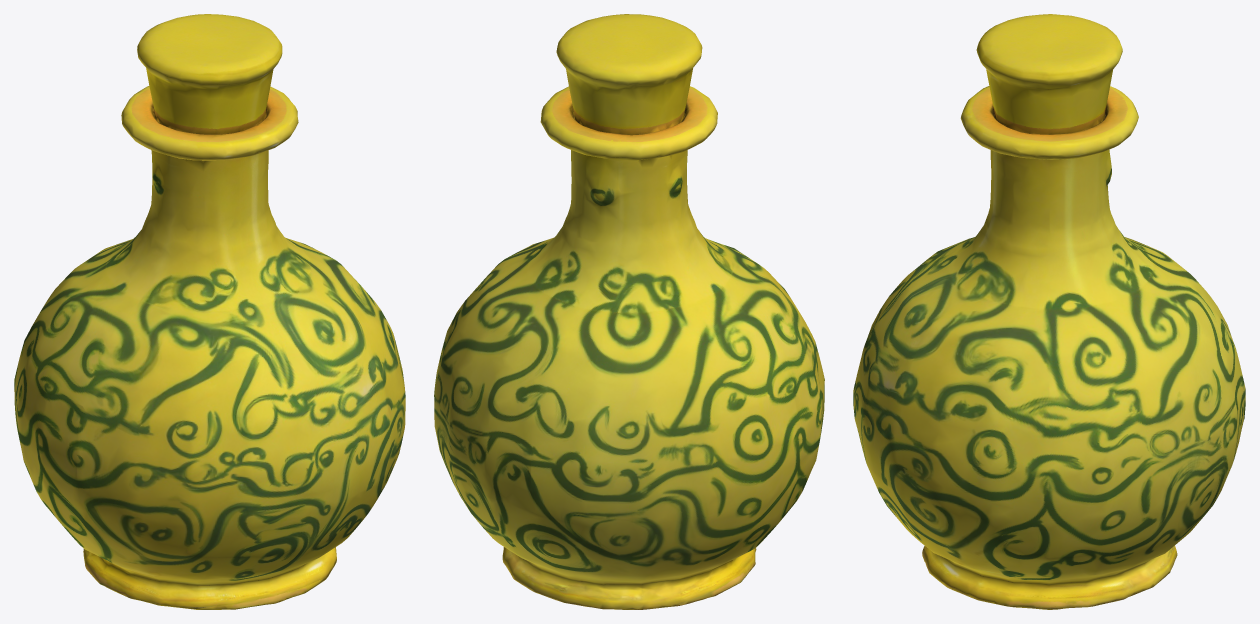
Rendered from hp_potion_0617081057_texture.fbx.
The picture shows the model from 3 angles, left to right: view 1: azimuth 30°, elevation 25°; view 2: azimuth 150°, elevation 25°; view 3: azimuth 270°, elevation 25°; orthographic projection.
Visible parts, largest first — view 1: Mesh_0; view 2: Mesh_0; view 3: Mesh_0.
Part boxes in pixels (x1,y1,x2,y2): Mesh_0: (14, 14, 405, 609); Mesh_0: (434, 14, 824, 609); Mesh_0: (853, 14, 1245, 609).
Size of the model in its own units: 138 by 200 by 138.
Materials: 1 (1 with a texture image).
